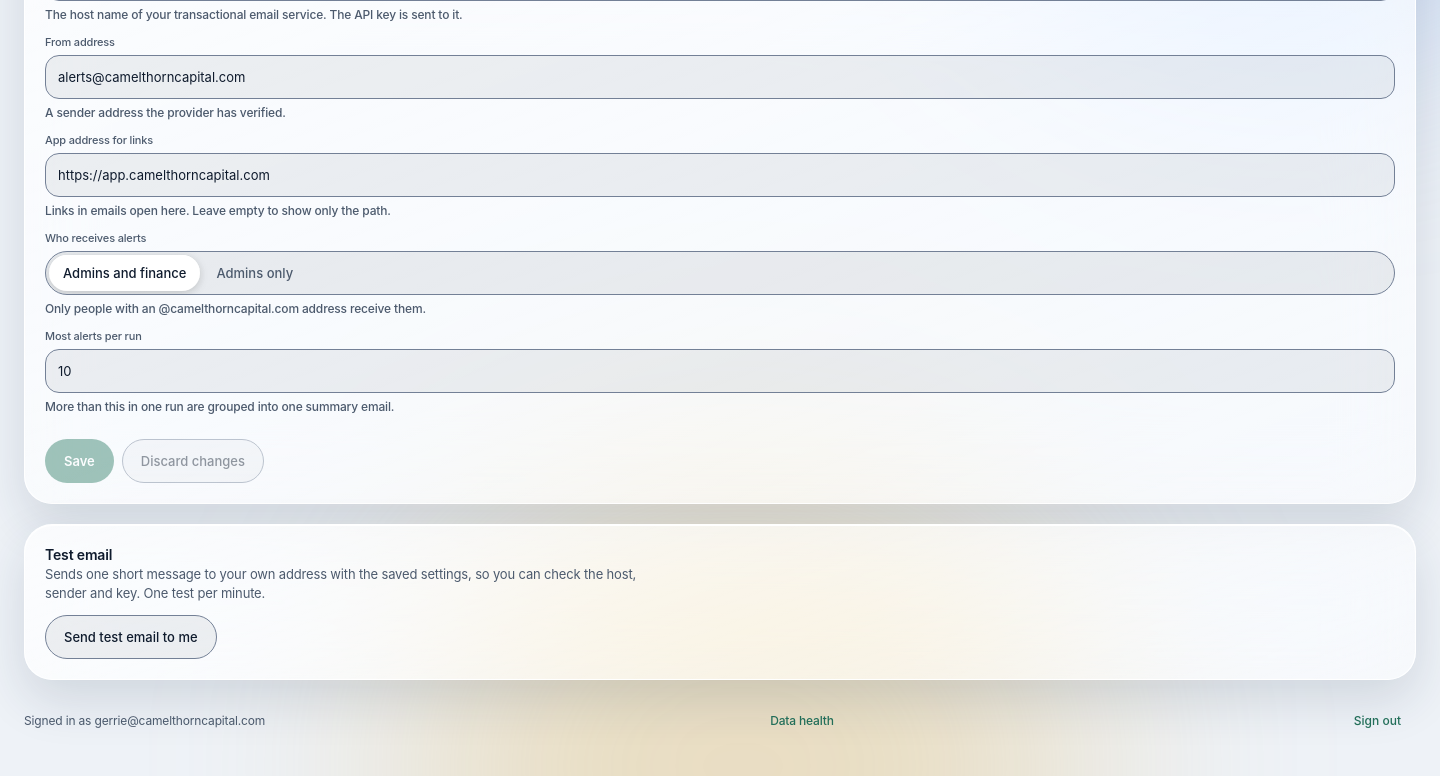
the Notifications tab › saves only the changed fields with the rev, then shows the new state
This screenshot has width=1440, height=776.
(page scrolled)
expect the button "Save" is disabled: met, box [45,439,114,483]
Replace the text in the 4th field with "20" at [720, 371], box [45,349,1395,393]
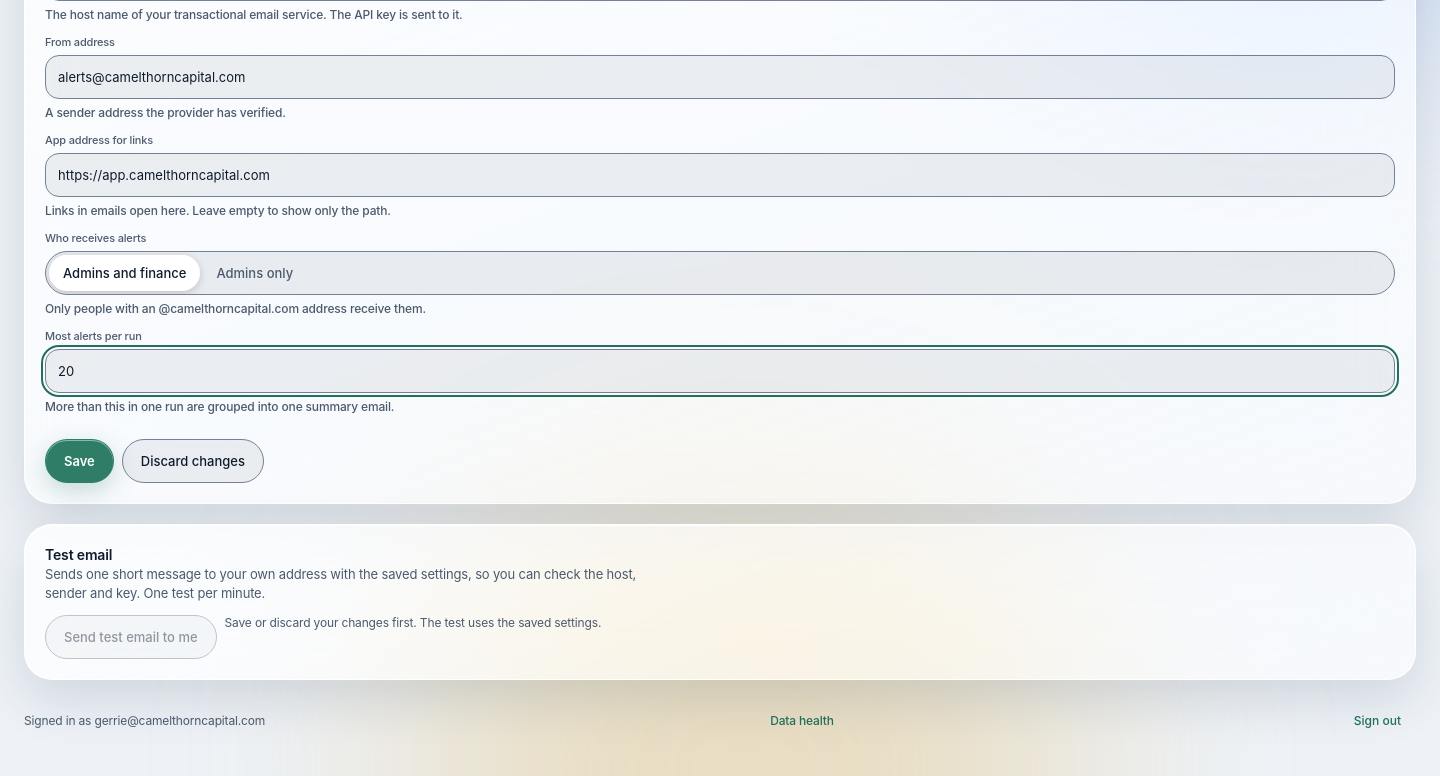
expect the button "Save" is enabled: met
Click the button "Save".
click(79, 461)  # box [45,439,114,483]
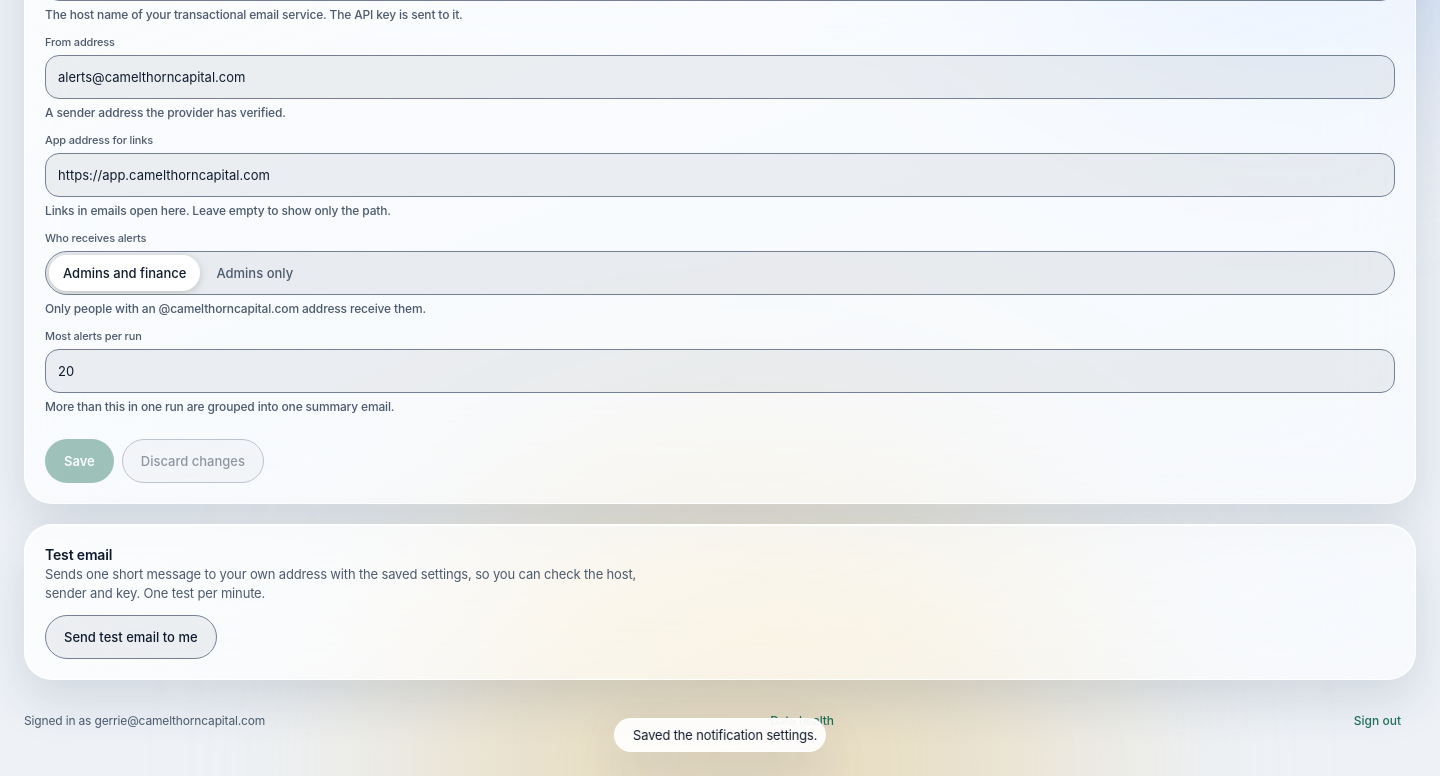
expect the button "Save" is disabled: met, box [45,439,114,483]
